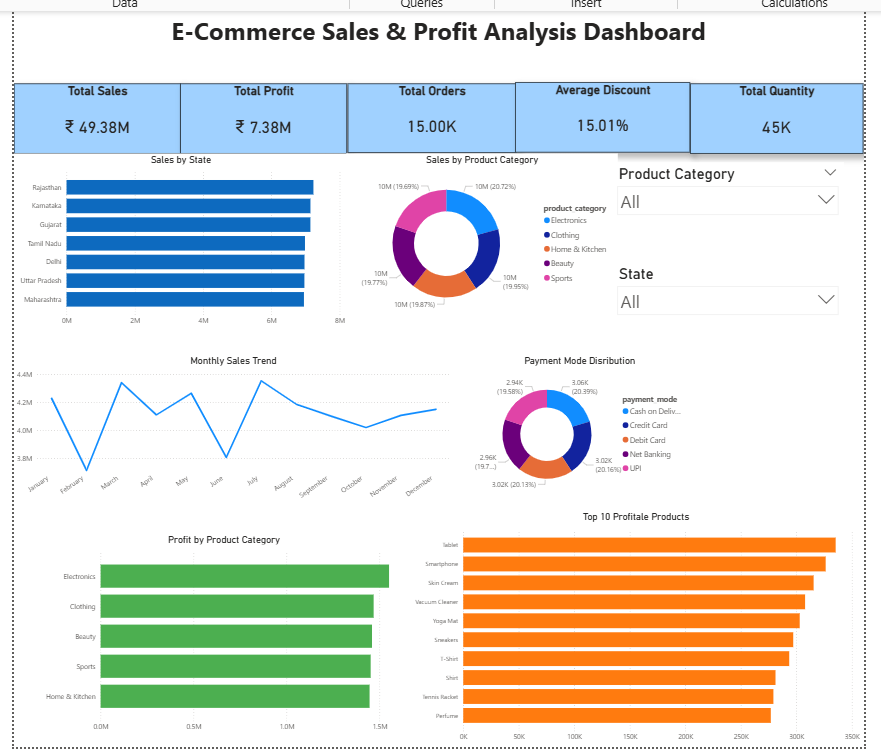

This screenshot's page, from the dashboard's own definition file:
{"tool":"powerbi","page":{"name":"Page 1","canvas":[1500,1300],"ordinal":0},"visuals":[{"type":"card","title":"Total Sales","fields":{"Values":["Sum(cleaned_sql_ds.Sales_amount)"]},"box":[0,127,294.3,123.8],"z":0},{"type":"card","title":"Total Profit","fields":{"Values":["Sum(cleaned_sql_ds.Profit)"]},"box":[294.3,127,294.3,123.8],"z":1000},{"type":"card","title":"Total Orders","fields":{"Values":["Count(cleaned_sql_ds.order_id)"]},"box":[588.6,128.6,297.5,122.2],"z":2000},{"type":"card","title":"Average Discount","fields":{"Values":["Avg(cleaned_sql_ds.Discount)"]},"box":[885.4,125.8,309.1,123.6],"z":3000},{"type":"card","title":"Total Quantity","fields":{"Values":["Sum(cleaned_sql_ds.quantity)"]},"box":[1194.8,128.6,305.5,123.8],"z":4000},{"type":"clusteredBarChart","title":"Sales by State","fields":{"Category":["cleaned_sql_ds.state"],"Y":["Sum(cleaned_sql_ds.Sales_amount)"]},"box":[0,251.7,589.5,313.5],"z":5000},{"type":"donutChart","title":"Sales by Product Category","fields":{"Category":["cleaned_sql_ds.product_category"],"Y":["Sum(cleaned_sql_ds.Sales_amount)"]},"box":[587.3,251.7,479.1,298.1],"z":6000},{"type":"lineChart","title":"Monthly Sales Trend","fields":{"Category":["cleaned_sql_ds.Order_date.Variation.Date Hierarchy.Month"],"Y":["Sum(cleaned_sql_ds.Sales_amount)"]},"box":[0,607.2,775,276],"z":7000},{"type":"donutChart","title":"Payment Mode Disribution","fields":{"Category":["cleaned_sql_ds.payment_mode"],"Y":["Count(cleaned_sql_ds.order_id)"]},"box":[803.7,607.2,390.8,260.5],"z":8000},{"type":"clusteredBarChart","title":"Top 10 Profitale Products","fields":{"Category":["cleaned_sql_ds.product_name"],"Y":["Sum(cleaned_sql_ds.Profit)"]},"box":[697.7,883.2,801.5,417.3],"z":9000},{"type":"clusteredBarChart","title":"Profit by Product Category","fields":{"Category":["cleaned_sql_ds.product_category"],"Y":["Sum(cleaned_sql_ds.Profit)"]},"box":[44.2,922.9,653.5,359.9],"z":10000},{"type":"textbox","box":[0,0,1500.3,77.2],"z":11000},{"type":"slicer","fields":{"Values":["cleaned_sql_ds.state"]},"box":[1055.4,443.8,410.7,121.4],"z":12000},{"type":"slicer","fields":{"Values":["cleaned_sql_ds.product_category"]},"box":[1055.4,267.2,410.7,147.9],"z":13000}]}

Visuals, with their boxes on the page's 1500x1300 design canvas (x1, y1, x2, y2). These are canvas units, not pixel positions in the 881x752 screenshot, which may show the page scaled, cropped or inside an application window:
"Total Sales" card: [x1=0, y1=127, x2=294, y2=251]
"Total Profit" card: [x1=294, y1=127, x2=589, y2=251]
"Total Orders" card: [x1=589, y1=129, x2=886, y2=251]
"Average Discount" card: [x1=885, y1=126, x2=1194, y2=249]
"Total Quantity" card: [x1=1195, y1=129, x2=1500, y2=252]
"Sales by State" clusteredBarChart: [x1=0, y1=252, x2=590, y2=565]
"Sales by Product Category" donutChart: [x1=587, y1=252, x2=1066, y2=550]
"Monthly Sales Trend" lineChart: [x1=0, y1=607, x2=775, y2=883]
"Payment Mode Disribution" donutChart: [x1=804, y1=607, x2=1194, y2=868]
"Top 10 Profitale Products" clusteredBarChart: [x1=698, y1=883, x2=1499, y2=1300]
"Profit by Product Category" clusteredBarChart: [x1=44, y1=923, x2=698, y2=1283]
textbox: [x1=0, y1=0, x2=1500, y2=77]
slicer - cleaned_sql_ds.state: [x1=1055, y1=444, x2=1466, y2=565]
slicer - cleaned_sql_ds.product_category: [x1=1055, y1=267, x2=1466, y2=415]
